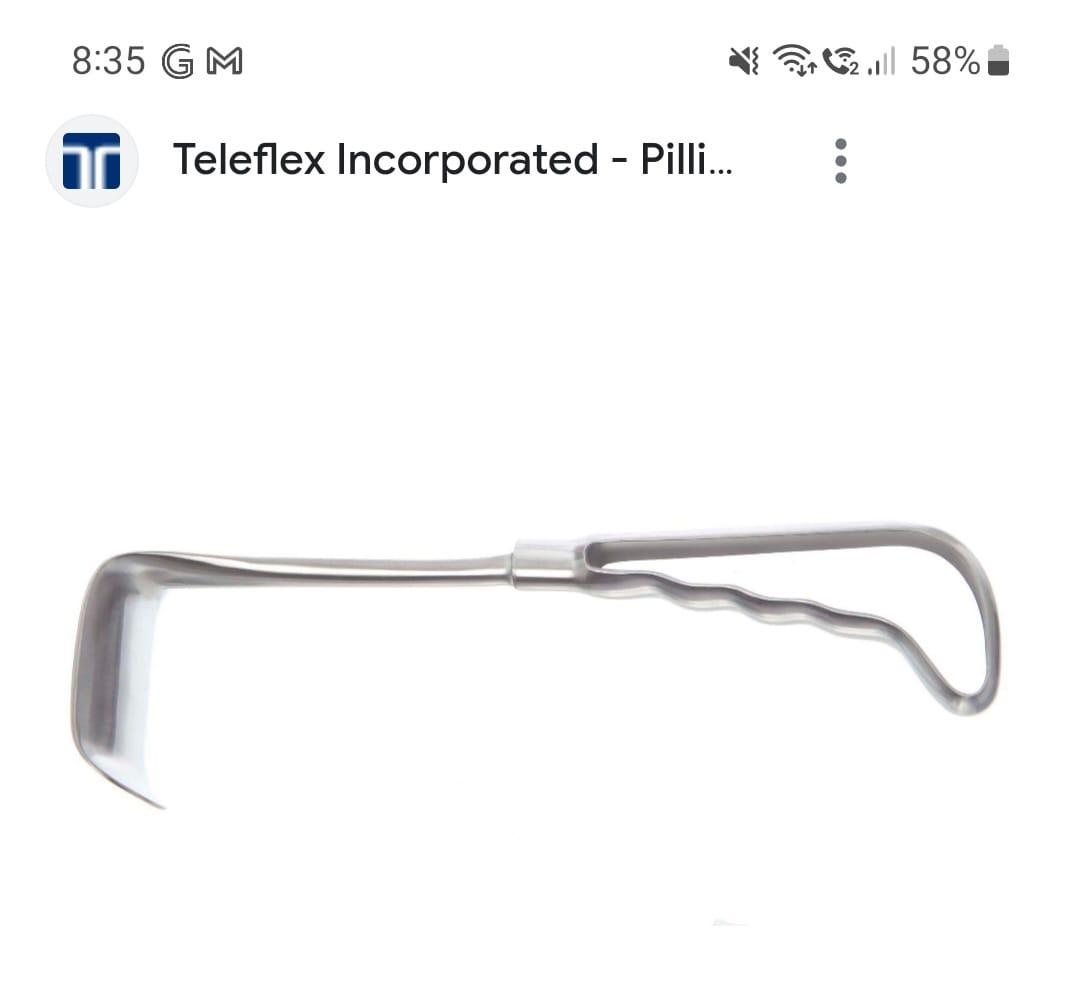Kelly Retractor: (66, 511, 1017, 821)
